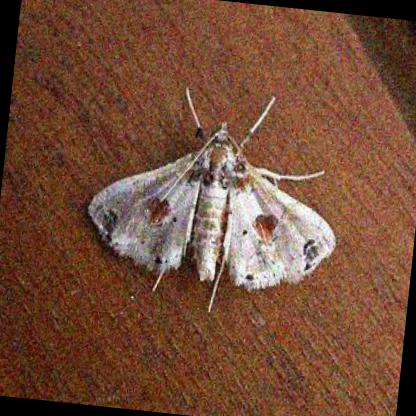leucinodes: (86, 119, 336, 288)
